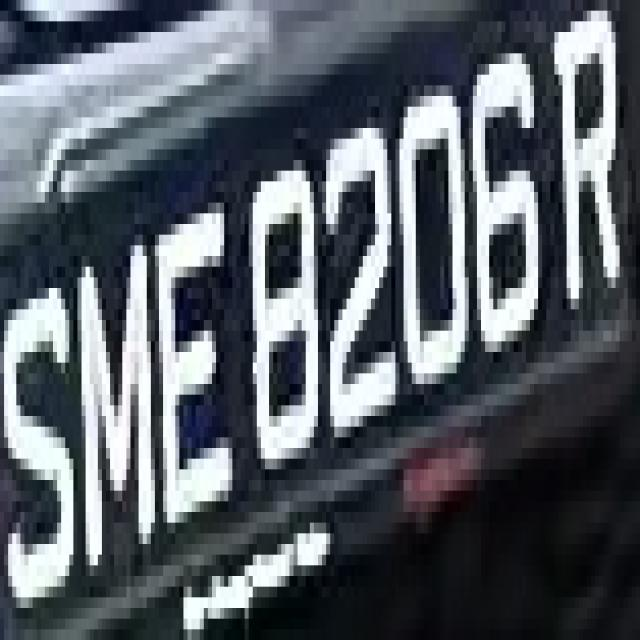0: (387, 53, 477, 416)
2: (310, 85, 404, 459)
6: (452, 11, 550, 373)
8: (232, 128, 330, 491)
E: (142, 170, 236, 554)
M: (61, 213, 159, 598)
R: (550, 0, 627, 341)
S: (0, 4, 1, 11)
